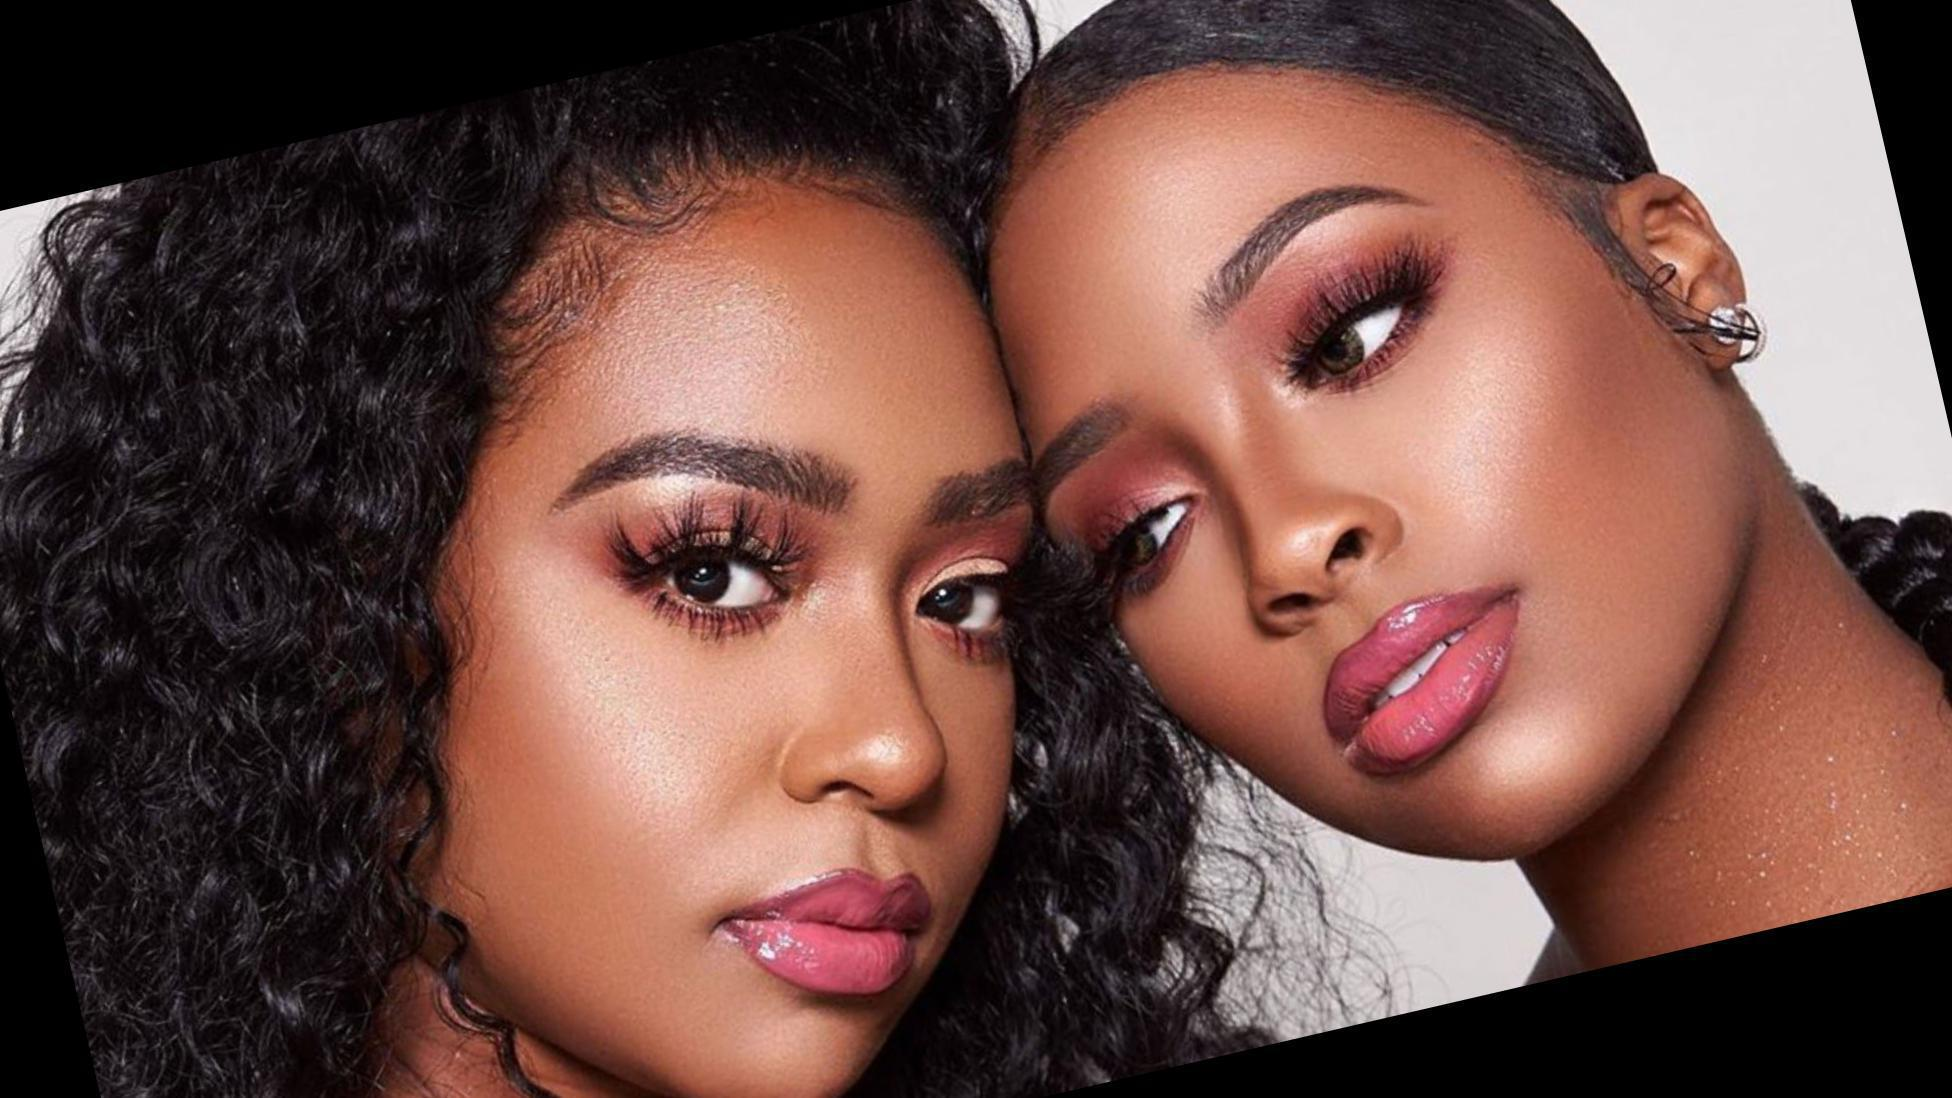Sober: (1018, 135, 1699, 837), (481, 216, 1005, 1097)
